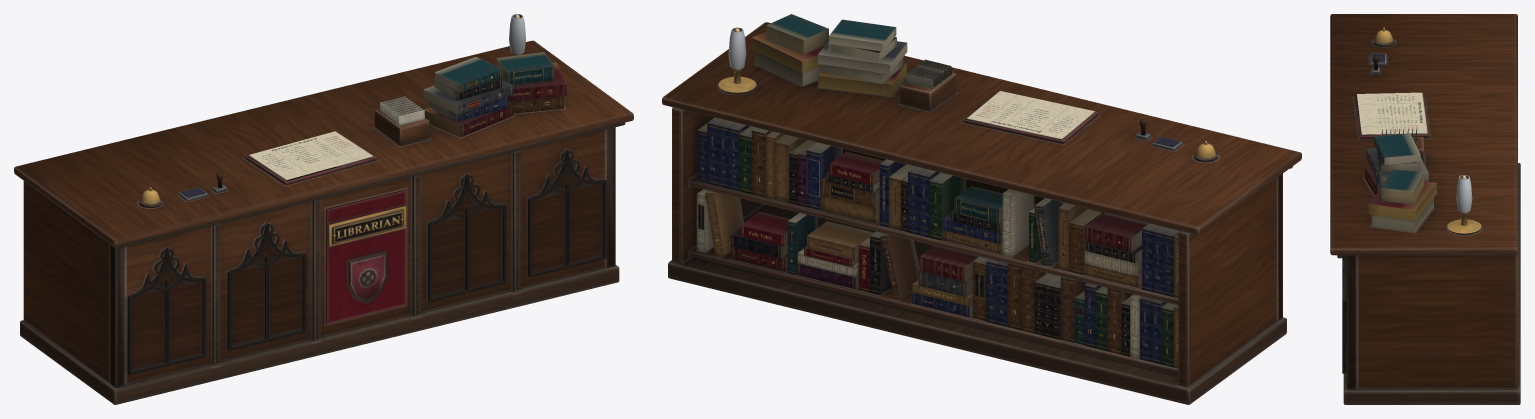
Rendered from CirculationDesk.fbx.
3 renders of one model, left to right at view 1: azimuth 30°, elevation 25°; view 2: azimuth 150°, elevation 25°; view 3: azimuth 270°, elevation 25°, orthographic. The views are drawn at different scales.
Parts seen in each view (by area): view 1: CirculationDesk_Main; view 2: CirculationDesk_Main; view 3: CirculationDesk_Main.
Boxes of the visible parts, box(x1,y1,x2,y2) form: CirculationDesk_Main: box(14, 14, 633, 404); CirculationDesk_Main: box(662, 14, 1301, 404); CirculationDesk_Main: box(1330, 14, 1520, 404).
Bounding box in the file's own units: 1040 × 438 × 355.
